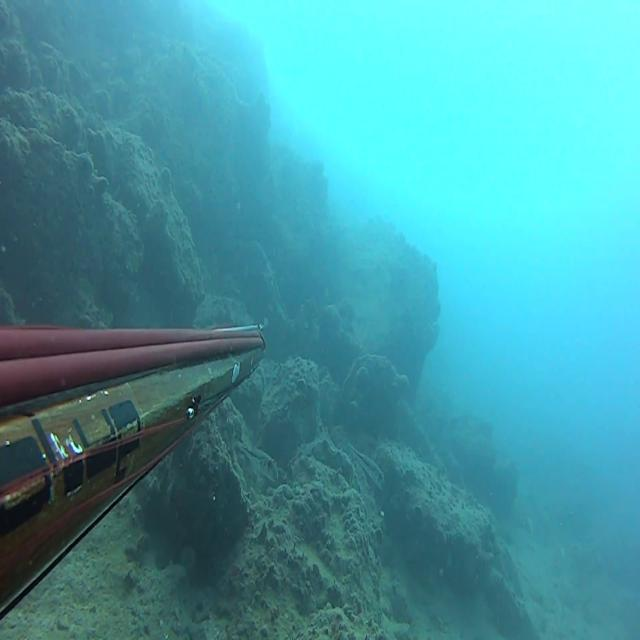Balon Baligi: (347, 441, 385, 490), (236, 440, 278, 480)
